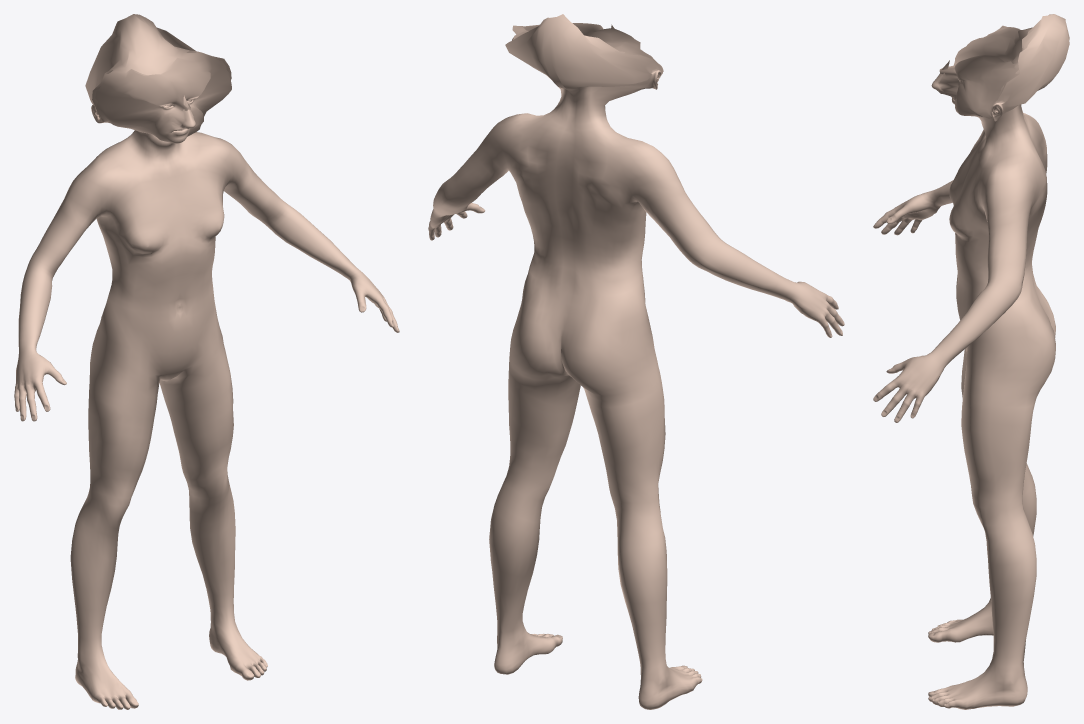
Rendered from makehuman_2keys.glb.
3 views of the same model, side by side, from view 1: azimuth 30°, elevation 25°; view 2: azimuth 150°, elevation 25°; view 3: azimuth 270°, elevation 25° (orthographic). The views are drawn at different scales.
Visible parts, largest first — view 1: Human; view 2: Human; view 3: Human.
Part boxes in pixels (x1,y1,x2,y2): Human: [14, 14, 399, 709]; Human: [428, 14, 844, 709]; Human: [873, 14, 1069, 709].
Bounding box in the file's own units: 1.05 × 1.7 × 0.4622.
